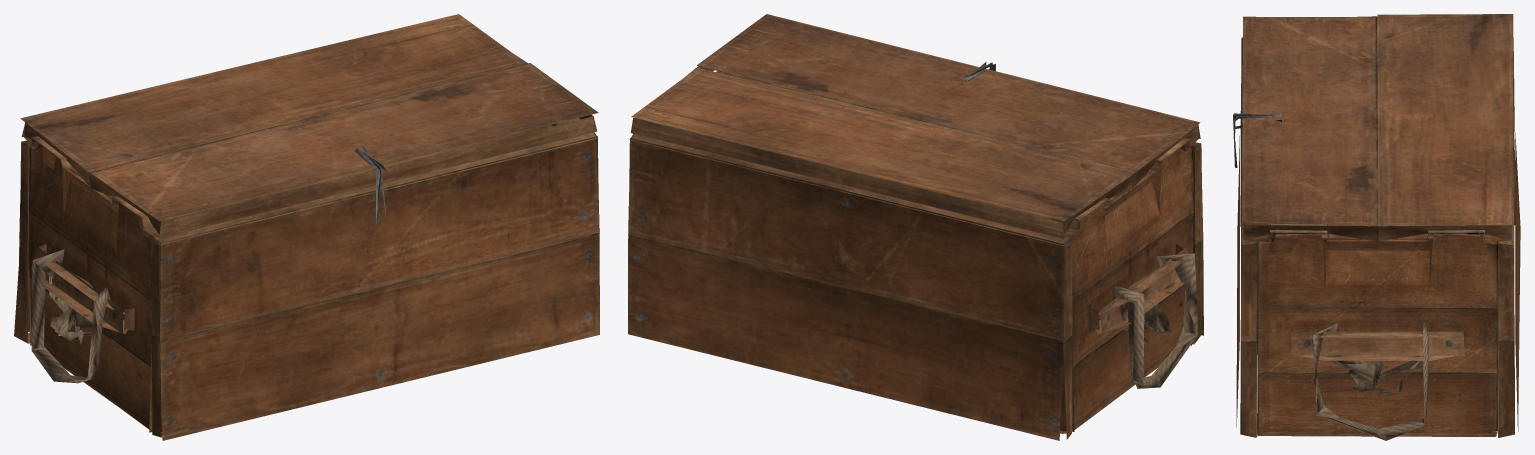
File: crate_a.glb
3 views of the same model, side by side, from view 1: azimuth 30°, elevation 25°; view 2: azimuth 150°, elevation 25°; view 3: azimuth 270°, elevation 25° (orthographic). The views are drawn at different scales.
Visible parts, largest first — view 1: wooden_crate_01_lid; view 2: wooden_crate_01_lid; view 3: wooden_crate_01_lid.
Boxes of the visible parts, <box> form: wooden_crate_01_lid: <box>14,14,599,440</box>; wooden_crate_01_lid: <box>628,14,1203,440</box>; wooden_crate_01_lid: <box>1232,14,1520,440</box>.
Size of the model in its own units: 0.8125 by 0.344 by 0.4067.
1 material, 1 textured.
